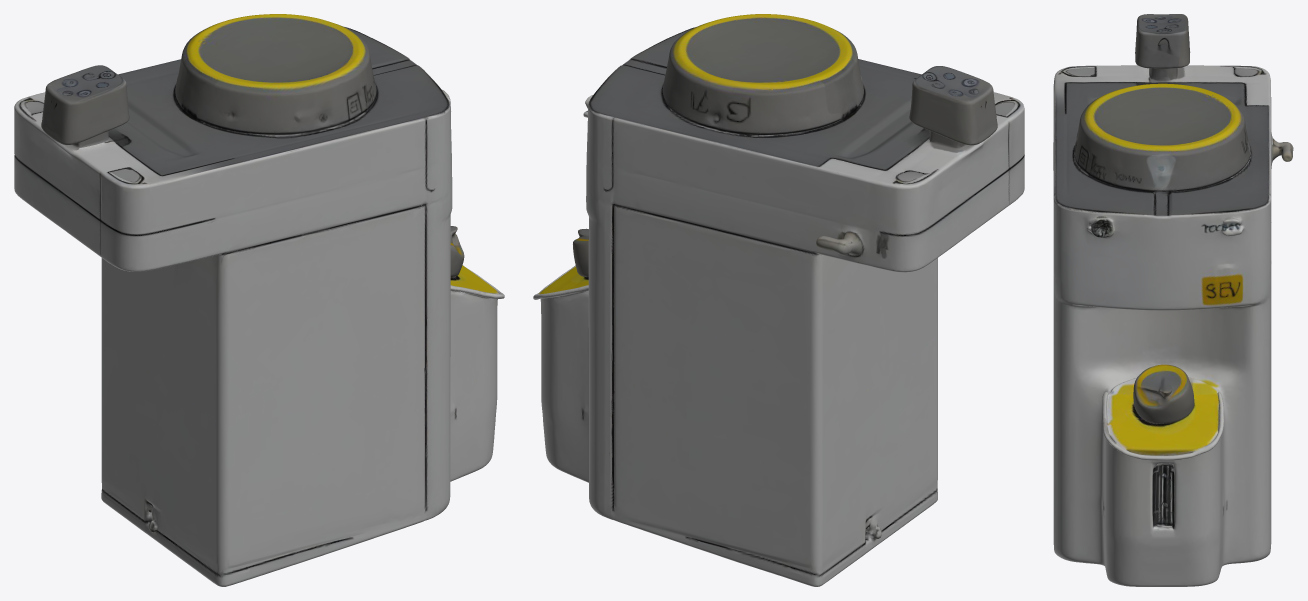
File: Anesthesia_vaporiser.glb
3 views of the same model, side by side, from view 1: azimuth 30°, elevation 25°; view 2: azimuth 150°, elevation 25°; view 3: azimuth 270°, elevation 25° (orthographic). The views are drawn at different scales.
Visible parts, largest first — view 1: tripo_node_81be979b-fbf6-48b6-b37f-14e725964629; view 2: tripo_node_81be979b-fbf6-48b6-b37f-14e725964629; view 3: tripo_node_81be979b-fbf6-48b6-b37f-14e725964629.
Part boxes in pixels (box(x1,y1,x2,y2)): tripo_node_81be979b-fbf6-48b6-b37f-14e725964629: box(14, 14, 504, 586); tripo_node_81be979b-fbf6-48b6-b37f-14e725964629: box(533, 14, 1024, 586); tripo_node_81be979b-fbf6-48b6-b37f-14e725964629: box(1053, 14, 1293, 586).
Bounding box in the file's own units: 0.897 × 0.9484 × 0.4835.
1 material, 1 textured.
